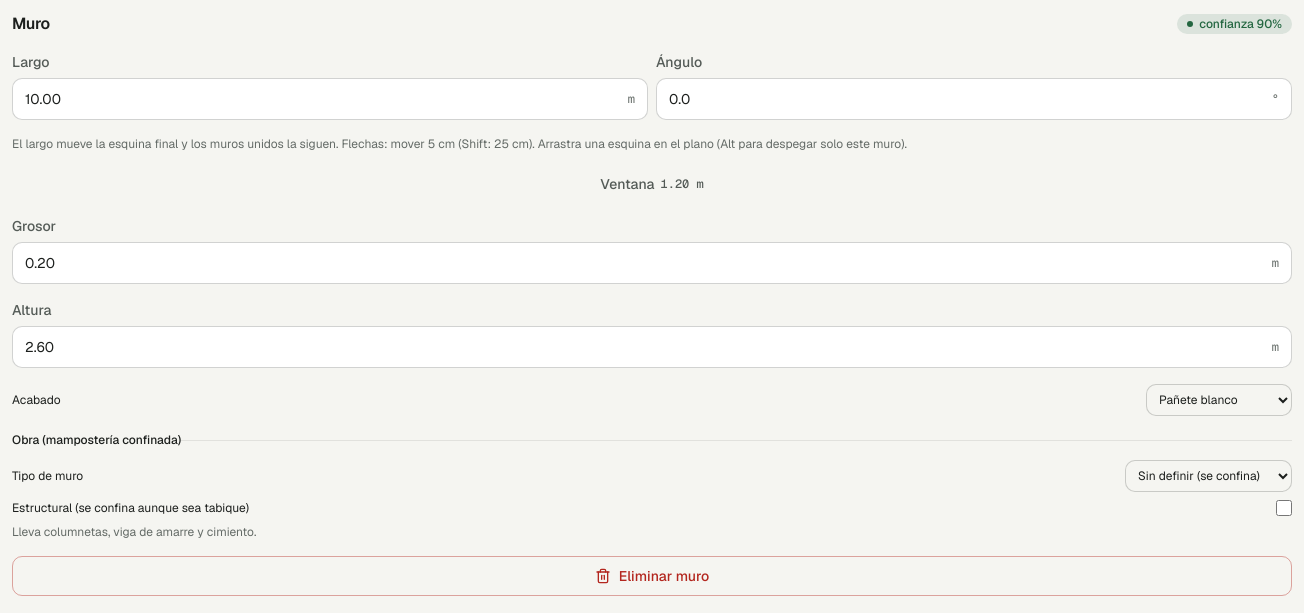
it: PropertiesPanel › un valor inválido se descarta y no crea comando
This screenshot has width=1304, height=613.
Replace the text in the field labelled "Grosor" with "abc" at (642, 263), box left=13, top=243, right=1272, bottom=283
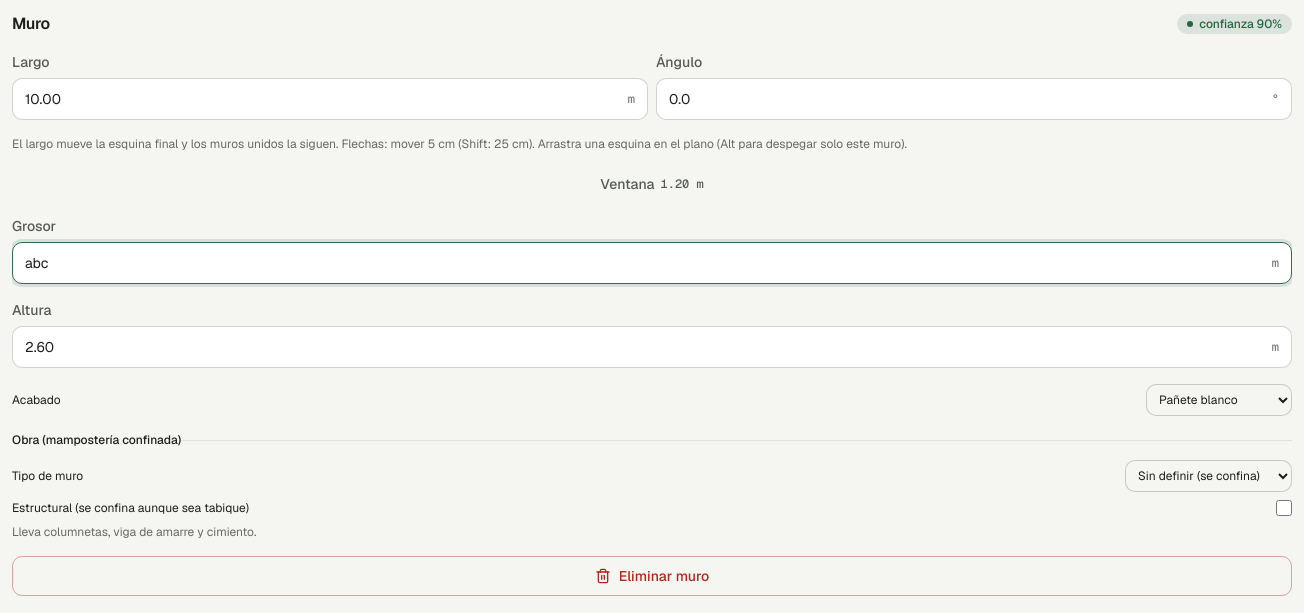
Press Tab
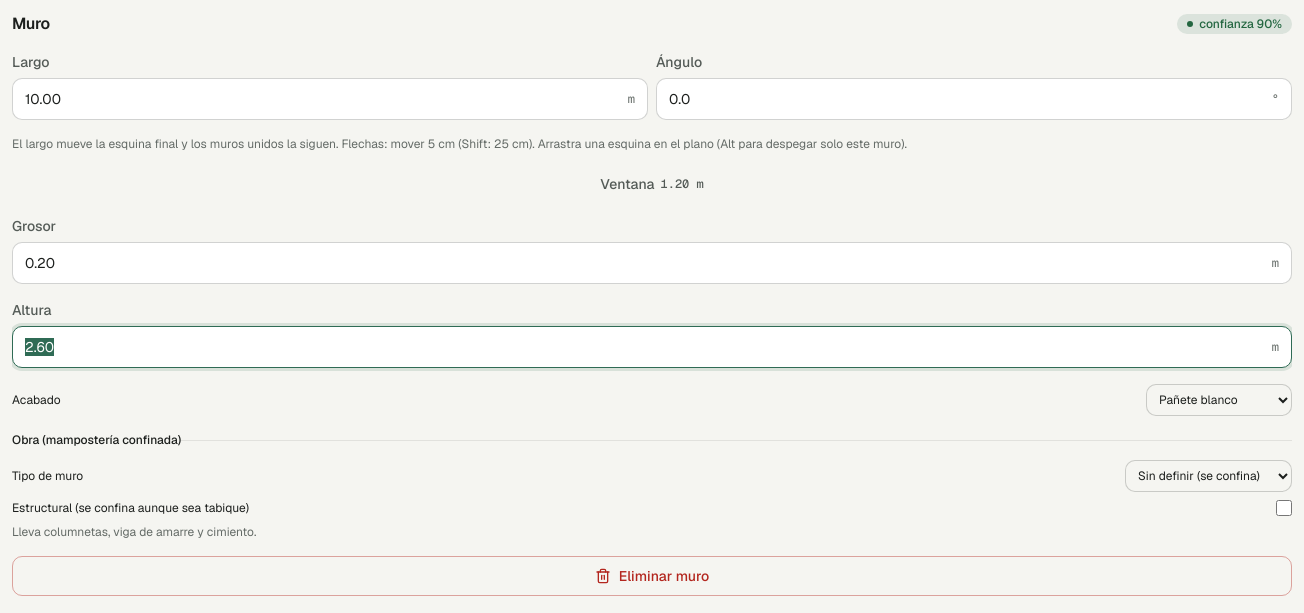
Now the field labelled "Grosor" holds "0.20", box left=13, top=243, right=1272, bottom=283
